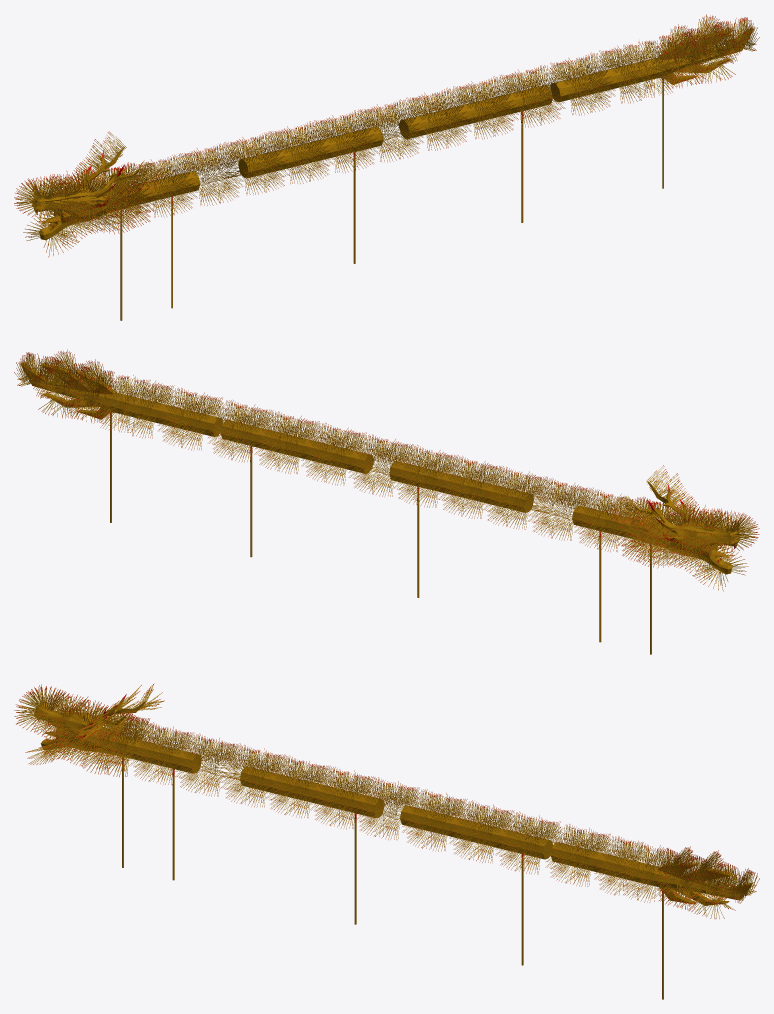
File: 分段香火龙.fbx
3 views of the same model, one above another, from view 1: azimuth 30°, elevation 25°; view 2: azimuth 150°, elevation 25°; view 3: azimuth 330°, elevation 25° (orthographic).
Visible parts, largest first — view 1: DragonHead, DragonTail, BoxDragonTail, BoxDragonBody02, BoxDragonBody01, BoxDragonHead, DragonBody02, DragonBody01, DragonBody07, DragonBody09, DragonBody06, DragonBody08 (+5 smaller); view 2: DragonHead, DragonTail, BoxDragonTail, BoxDragonBody02, BoxDragonBody01, BoxDragonHead, DragonBody02, DragonBody01, DragonBody09, DragonBody08, DragonBody04, DragonBody03 (+5 smaller); view 3: DragonHead, DragonTail, BoxDragonTail, BoxDragonBody02, BoxDragonBody01, BoxDragonHead, DragonBody01, DragonBody05, DragonBody08, DragonBody09, DragonBody07, DragonBody00 (+5 smaller).
Part boxes in pixels (x1=…): DragonHead: x1=14, y1=131, x2=163, y2=257; DragonTail: x1=594, y1=14, x2=759, y2=103; BoxDragonTail: x1=550, y1=27, x2=753, y2=188; BoxDragonBody02: x1=399, y1=85, x2=552, y2=222; BoxDragonBody01: x1=238, y1=126, x2=383, y2=263; BoxDragonHead: x1=31, y1=147, x2=144, y2=320; DragonBody02: x1=219, y1=132, x2=289, y2=194; DragonBody01: x1=174, y1=143, x2=243, y2=205; DragonBody07: x1=449, y1=76, x2=518, y2=139; DragonBody09: x1=545, y1=52, x2=615, y2=115; DragonBody06: x1=401, y1=87, x2=471, y2=150; DragonBody08: x1=494, y1=65, x2=565, y2=127; DragonHead: x1=609, y1=465, x2=759, y2=591; DragonTail: x1=14, y1=349, x2=179, y2=438; BoxDragonTail: x1=20, y1=362, x2=223, y2=522; BoxDragonBody02: x1=220, y1=419, x2=373, y2=557; BoxDragonBody01: x1=389, y1=461, x2=533, y2=597; BoxDragonHead: x1=628, y1=481, x2=739, y2=654; DragonBody02: x1=482, y1=467, x2=552, y2=529; DragonBody01: x1=528, y1=478, x2=598, y2=540; DragonBody09: x1=157, y1=388, x2=228, y2=450; DragonBody08: x1=208, y1=400, x2=278, y2=462; DragonBody04: x1=393, y1=445, x2=461, y2=507; DragonBody03: x1=438, y1=456, x2=508, y2=518; DragonHead: x1=14, y1=683, x2=164, y2=776; DragonTail: x1=594, y1=836, x2=759, y2=918; BoxDragonTail: x1=550, y1=842, x2=753, y2=999; BoxDragonBody02: x1=400, y1=805, x2=553, y2=965; BoxDragonBody01: x1=240, y1=766, x2=384, y2=924; BoxDragonHead: x1=34, y1=694, x2=145, y2=867; DragonBody01: x1=175, y1=733, x2=244, y2=796; DragonBody05: x1=354, y1=777, x2=425, y2=839; DragonBody08: x1=495, y1=811, x2=565, y2=874; DragonBody09: x1=545, y1=824, x2=616, y2=886; DragonBody07: x1=449, y1=800, x2=518, y2=862; DragonBody00: x1=129, y1=722, x2=199, y2=784.
Size of the model in its own units: 150 by 33.39 by 16.22.
